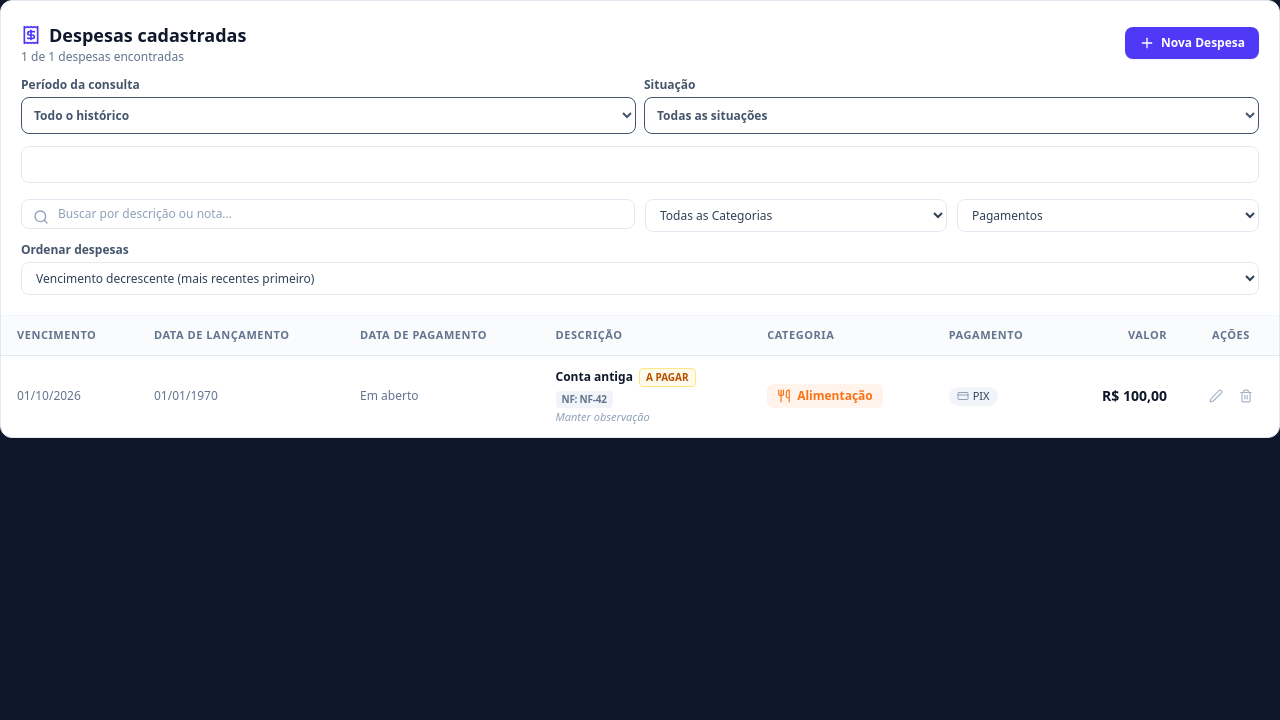
Test case: marking a pending legacy expense paid still requires a valid payment account
Click the button titled "Editar Despesa": click(1216, 396) left=1203, top=383, right=1229, bottom=409
(page scrolled)
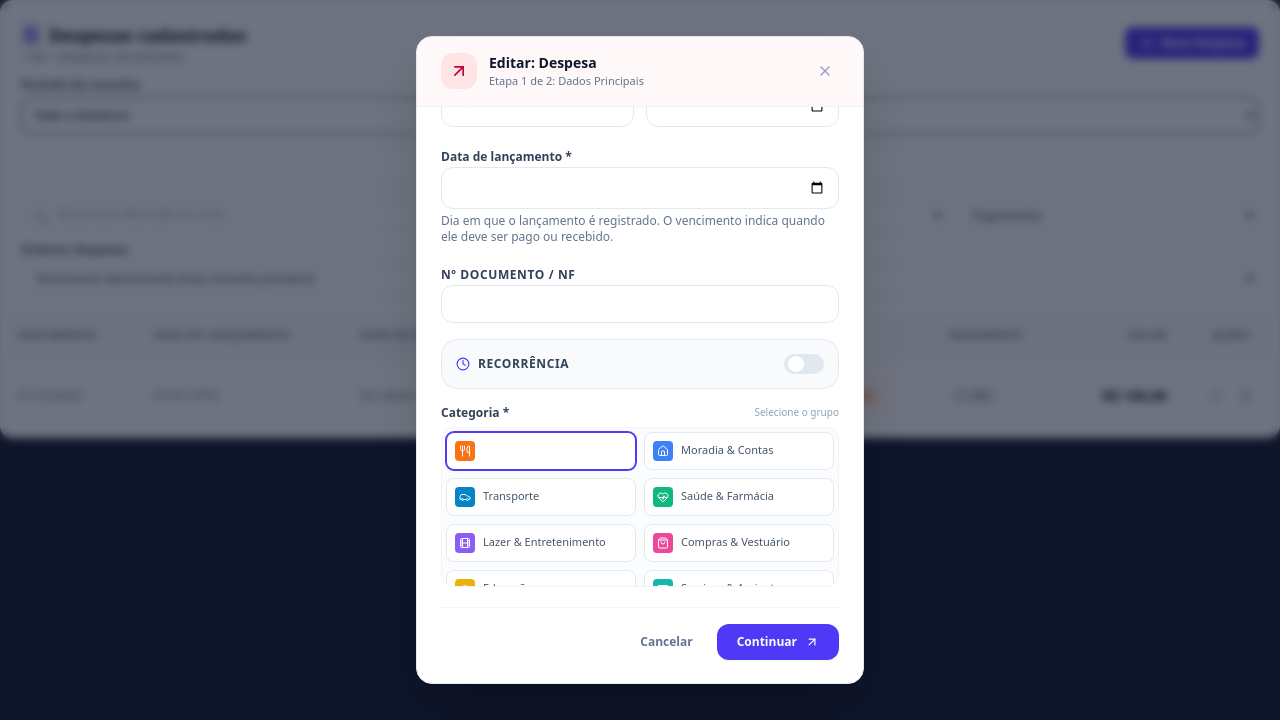
Click the button "Continuar": click(778, 642) left=717, top=624, right=839, bottom=660
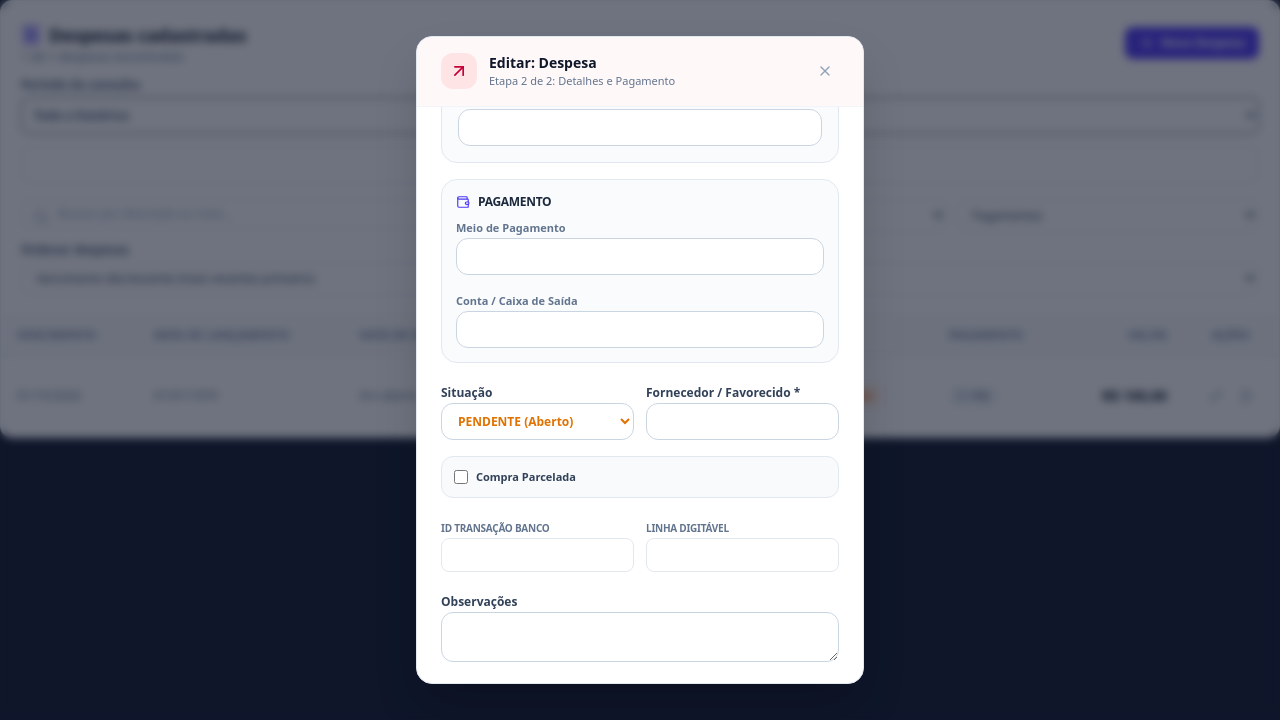
Select "PAGO" in the dropdown named "Situação do lançamento": (538, 421) left=441, top=402, right=634, bottom=440
(page scrolled)
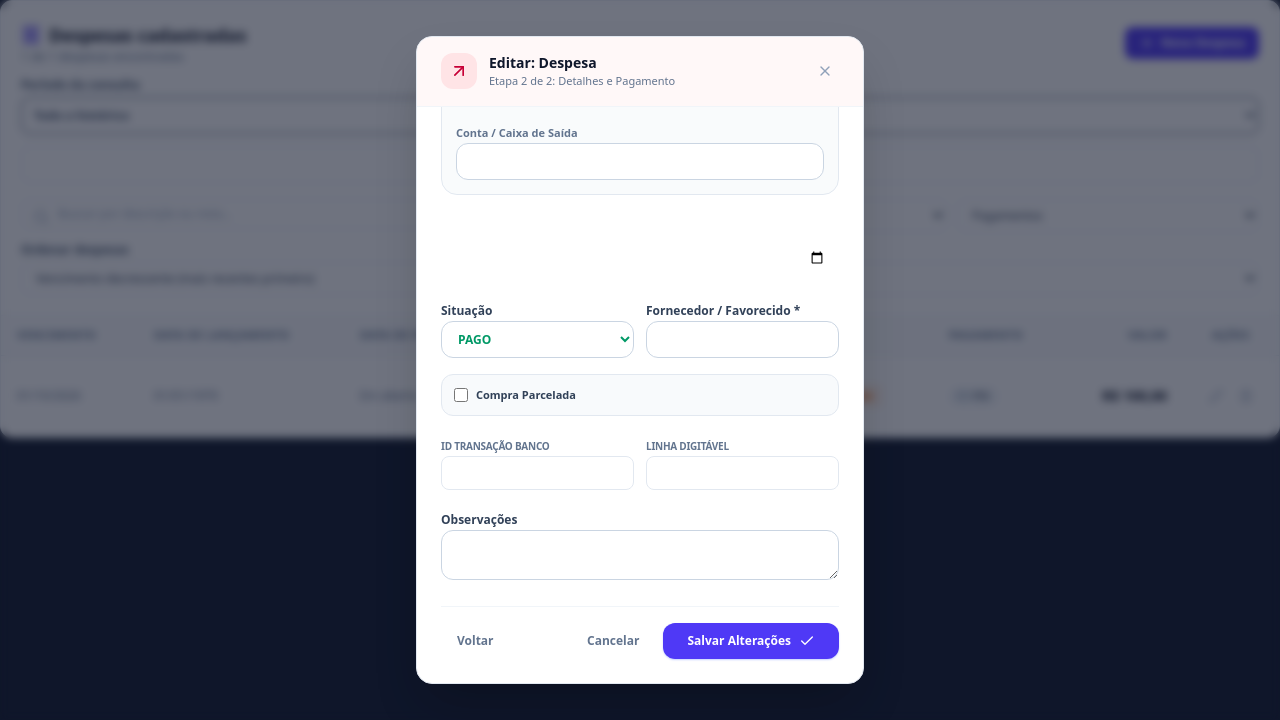
Click the button "Salvar Alterações": click(751, 641) left=664, top=623, right=839, bottom=659
(page scrolled)
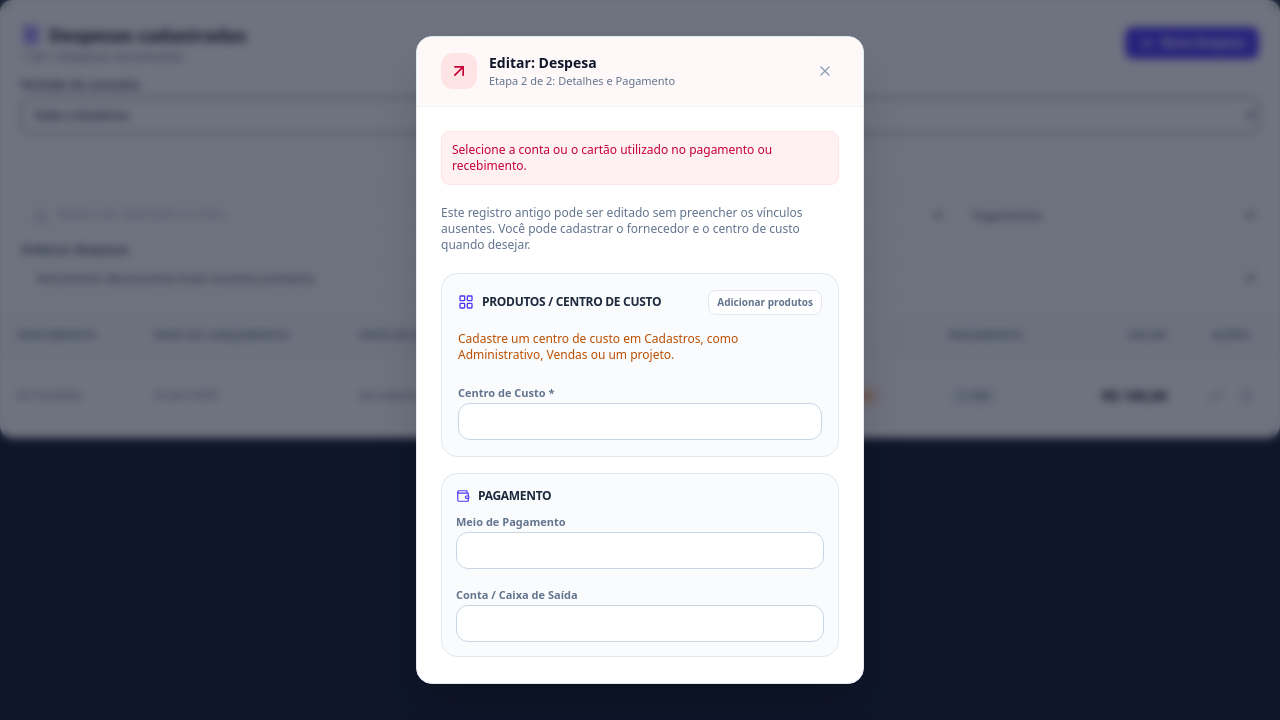
Expected: the text "Selecione a conta ou o cartão utilizado no pagamento ou recebimento." is shown, left=441, top=130, right=839, bottom=184
